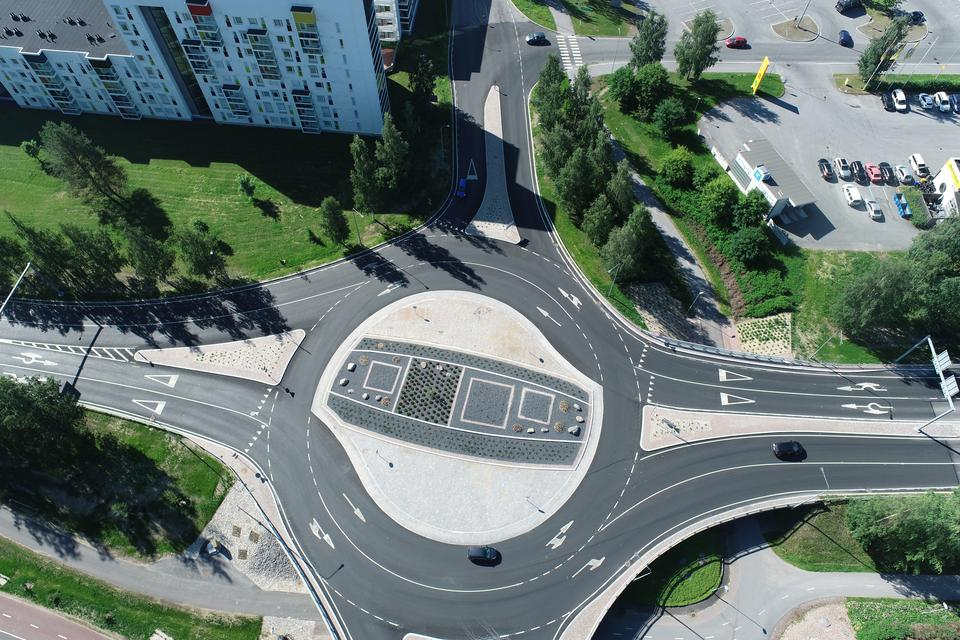intersection: (435, 20, 609, 101)
roundabout: (227, 226, 646, 640)
